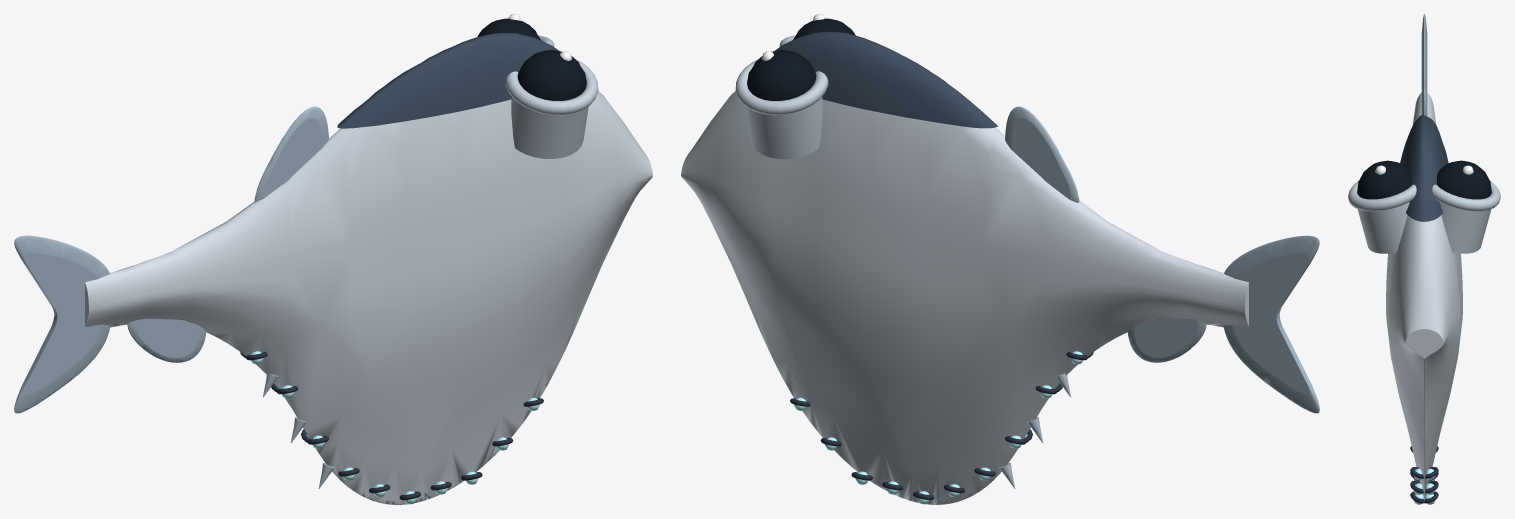
The model's file is hatchetfish.glb.
3 views of the same model, side by side, from view 1: azimuth 30°, elevation 25°; view 2: azimuth 150°, elevation 25°; view 3: azimuth 270°, elevation 25° (orthographic). The views are drawn at different scales.
Parts seen in each view (by area): view 1: Body, Fins, Back, EyeTubes, Irises, LightCups, Lights; view 2: Body, Fins, Back, EyeTubes, Irises, LightCups, Lights; view 3: Body, EyeTubes, Back, Irises, Fins, LightCups, Lights.
Boxes of the visible parts, box(x1,y1,x2,y2) form: Body: box(85, 91, 652, 504); Fins: box(14, 106, 328, 413); Back: box(337, 33, 558, 128); EyeTubes: box(505, 35, 598, 158); Irises: box(477, 18, 586, 100); LightCups: box(240, 352, 543, 500); Lights: box(251, 351, 539, 504); Body: box(681, 91, 1248, 504); Fins: box(1005, 106, 1319, 413); Back: box(775, 31, 997, 128); EyeTubes: box(735, 35, 828, 158); Irises: box(747, 18, 855, 100); LightCups: box(790, 352, 1093, 500); Lights: box(794, 351, 1082, 504); Body: box(1386, 93, 1462, 500); EyeTubes: box(1348, 181, 1500, 253); Back: box(1400, 115, 1448, 221); Irises: box(1357, 160, 1491, 199); Fins: box(1421, 14, 1427, 116); LightCups: box(1410, 446, 1438, 503); Lights: box(1413, 468, 1435, 504).
Bounding box in the file's own units: 0.1124 × 0.0772 × 0.0278.
